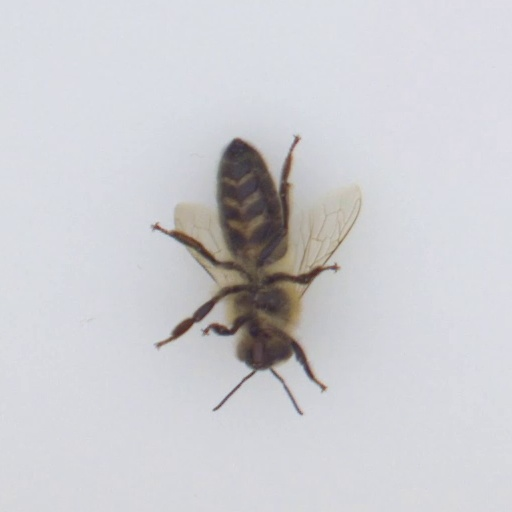Bee: (206, 130, 313, 372)
